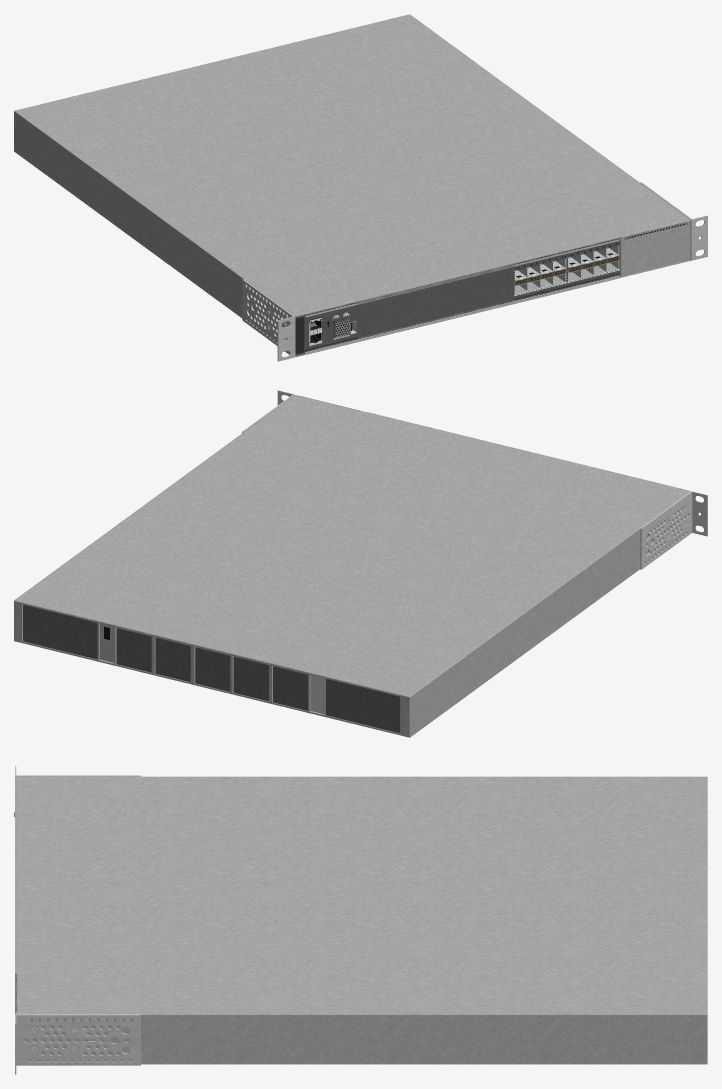
3 views of the same model, one above another, from view 1: azimuth 30°, elevation 25°; view 2: azimuth 150°, elevation 25°; view 3: azimuth 270°, elevation 25° (orthographic). The views are drawn at different scales.
Visible parts, largest first — view 1: Shell, Bank_Filler, Rack_Ears, empty:Network Module, Front_Details, Port_Cages, Front_Lip; view 2: Shell, Rack_Ears, empty:PS-0, empty:PS-1, empty:FAN 0, empty:FAN 3, empty:FAN 1, empty:FAN 2, empty:FAN 4, Rear_Details; view 3: Shell, Rack_Ears.
Boxes of the visible parts, box(x1,y1,x2,y2) form: Shell: box(14, 14, 689, 355); Bank_Filler: box(358, 264, 514, 338); Rack_Ears: box(242, 182, 707, 361); empty:Network Module: box(621, 219, 690, 277); Front_Details: box(295, 238, 619, 354); Port_Cages: box(514, 245, 619, 295); Front_Lip: box(295, 236, 621, 357); Shell: box(14, 395, 689, 737); Rack_Ears: box(242, 390, 707, 569); empty:PS-0: box(325, 678, 400, 733); empty:PS-1: box(23, 604, 97, 659); empty:FAN 0: box(273, 666, 308, 710); empty:FAN 3: box(155, 637, 190, 682); empty:FAN 1: box(233, 656, 268, 701); empty:FAN 2: box(195, 647, 230, 691); empty:FAN 4: box(116, 627, 151, 672); Rear_Details: box(100, 623, 323, 713); Shell: box(16, 776, 707, 1064); Rack_Ears: box(15, 766, 140, 1074).
Size of the model in its own units: 0.4826 by 0.044 by 0.5485.
Materials: 22 (4 with a texture image).
